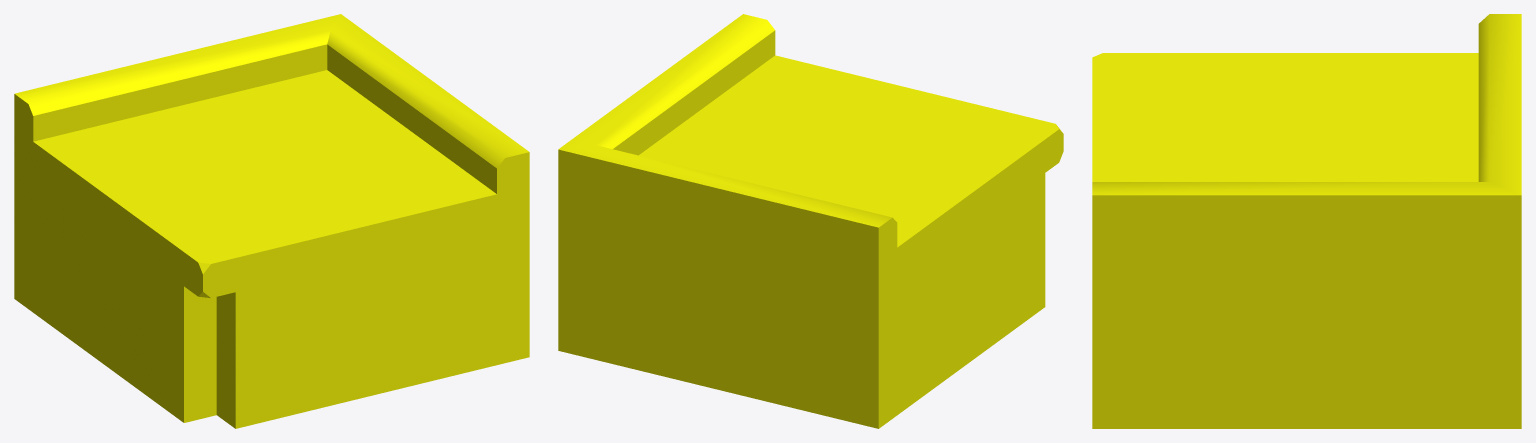
Rendered from kaykit-kitchencounter-innercorner-backsplash.glb.
3 views of the same model, side by side, from view 1: azimuth 30°, elevation 25°; view 2: azimuth 150°, elevation 25°; view 3: azimuth 270°, elevation 25° (orthographic). The views are drawn at different scales.
Parts seen in each view (by area): view 1: kitchencounter_innercorner_backsplash; view 2: kitchencounter_innercorner_backsplash; view 3: kitchencounter_innercorner_backsplash.
Boxes of the visible parts, bbox=[...] form: kitchencounter_innercorner_backsplash: bbox=[14, 14, 529, 428]; kitchencounter_innercorner_backsplash: bbox=[558, 14, 1063, 428]; kitchencounter_innercorner_backsplash: bbox=[1092, 14, 1521, 428].
Bounding box in the file's own units: 2 × 1.2 × 2.
